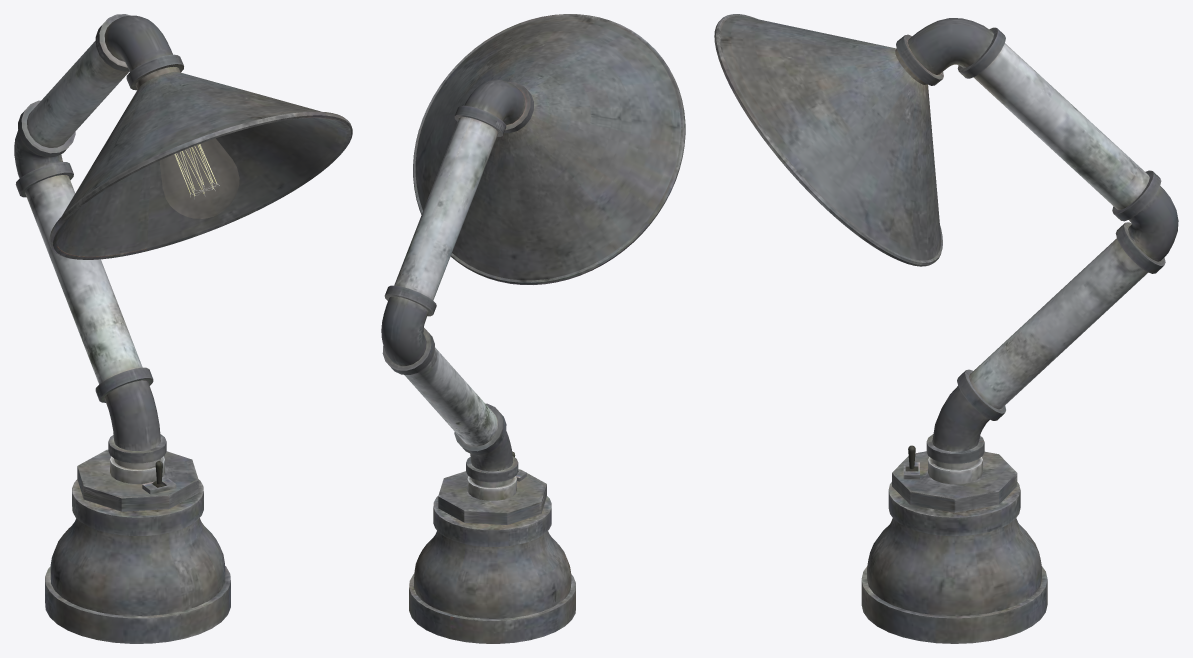
File: industrial_pipe_lamp_4k.glb
3 renders of one model, left to right at view 1: azimuth 30°, elevation 25°; view 2: azimuth 150°, elevation 25°; view 3: azimuth 270°, elevation 25°, orthographic. The views are drawn at different scales.
Visible parts, largest first — view 1: industrial_pipe_lamp, industrial_pipe_lamp_bulb; view 2: industrial_pipe_lamp; view 3: industrial_pipe_lamp.
Part boxes in pixels (x1,y1,x2,y2): industrial_pipe_lamp: [14, 14, 352, 643]; industrial_pipe_lamp_bulb: [160, 138, 239, 218]; industrial_pipe_lamp: [381, 14, 685, 643]; industrial_pipe_lamp: [714, 14, 1178, 643].
Bounding box in the file's own units: 0.183 × 0.3641 × 0.2621.
2 materials, 2 textured.
